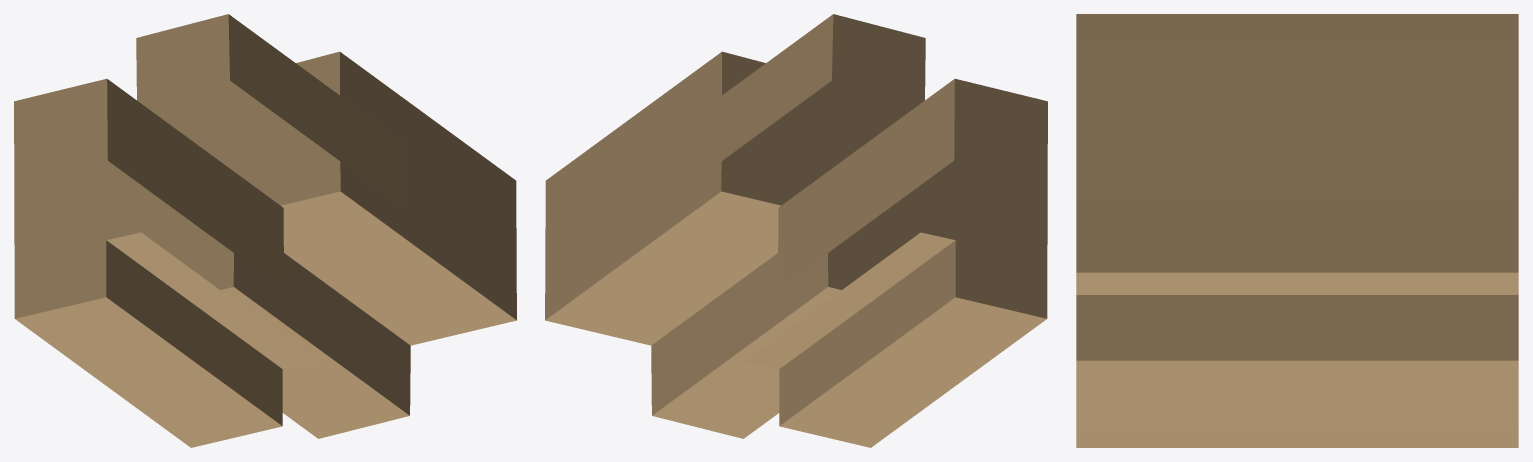
The picture shows the model from 3 angles, left to right: view 1: azimuth 30°, elevation 25°; view 2: azimuth 150°, elevation 25°; view 3: azimuth 270°, elevation 25°; orthographic projection. The views are drawn at different scales.
Parts seen in each view (by area): view 1: 0_3_0_1_1_2_1_3_3_1; view 2: 0_3_0_1_1_2_1_3_3_1; view 3: 0_3_0_1_1_2_1_3_3_1.
Part boxes in pixels (x1,y1,x2,y2): 0_3_0_1_1_2_1_3_3_1: [14, 14, 516, 447]; 0_3_0_1_1_2_1_3_3_1: [545, 14, 1047, 447]; 0_3_0_1_1_2_1_3_3_1: [1076, 14, 1518, 447].
Bounding box in the file's own units: 22.45 × 18.05 × 21.
